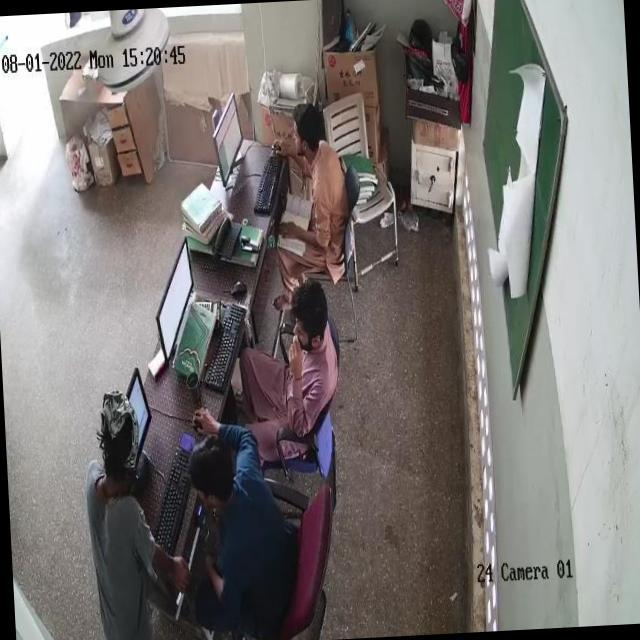person: (188, 410, 306, 622), (237, 283, 334, 456), (83, 397, 152, 640), (273, 107, 339, 272)
